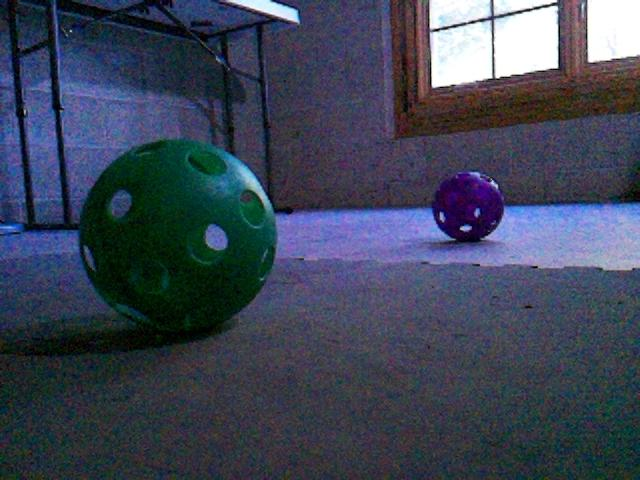Green: (75, 137, 278, 333)
Purple: (430, 170, 505, 243)
